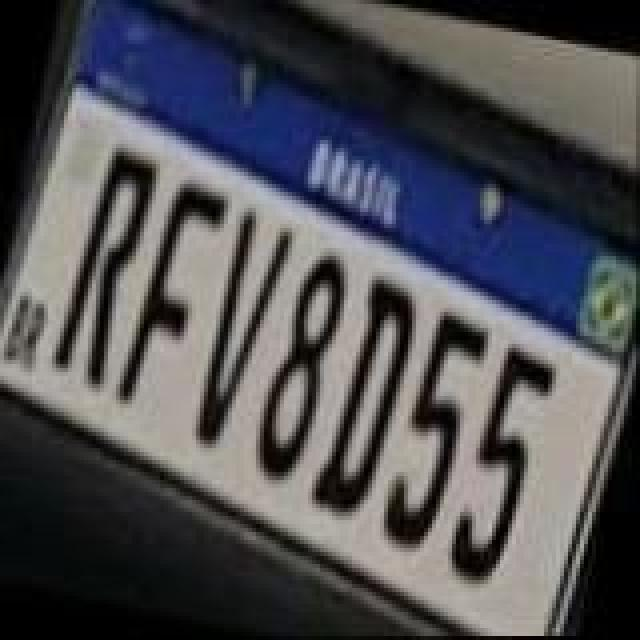5: (378, 306, 494, 558), (446, 340, 562, 592)
8: (248, 244, 356, 488)
D: (306, 268, 422, 520)
F: (116, 180, 232, 420)
R: (44, 140, 160, 396)
V: (192, 210, 300, 454)
